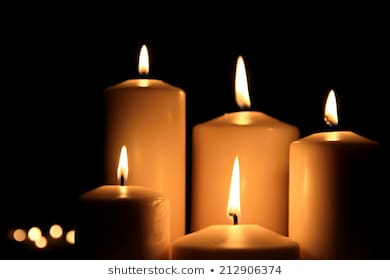Fire: (224, 153, 242, 227), (233, 52, 254, 109), (323, 89, 341, 128), (135, 41, 152, 77), (117, 143, 130, 184)
